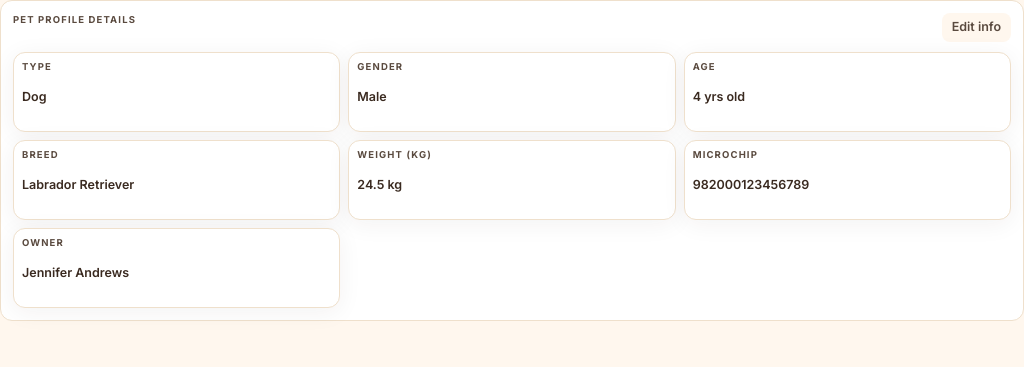
Test: PetProfileDetailsPanel › shows a validation error and does not save when age is not positive
This screenshot has width=1024, height=367.
Click the button "Edit info".
click(976, 27)  # box left=942, top=13, right=1011, bottom=42
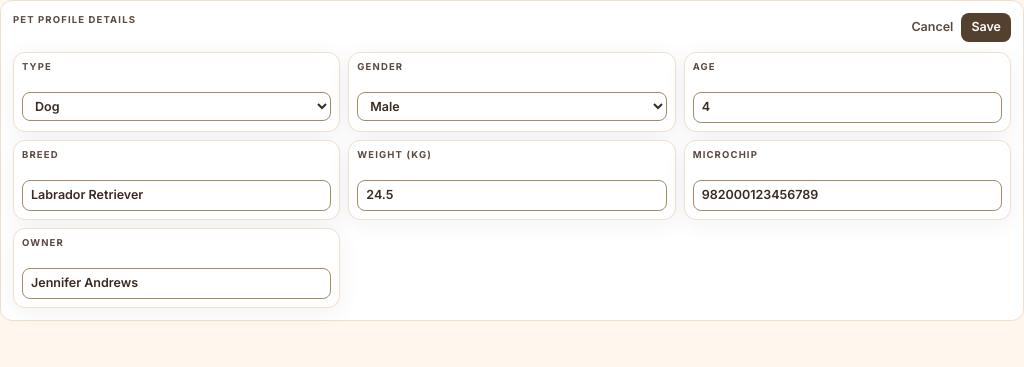
Replace the text in the number field named "Age" with "0" at (847, 108), box left=693, top=92, right=1002, bottom=123
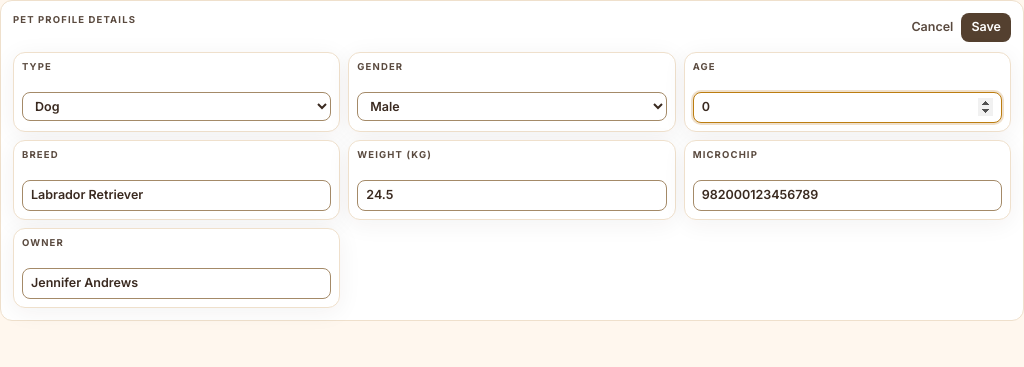
Click the button "Save".
click(986, 27)  # box left=961, top=13, right=1011, bottom=42
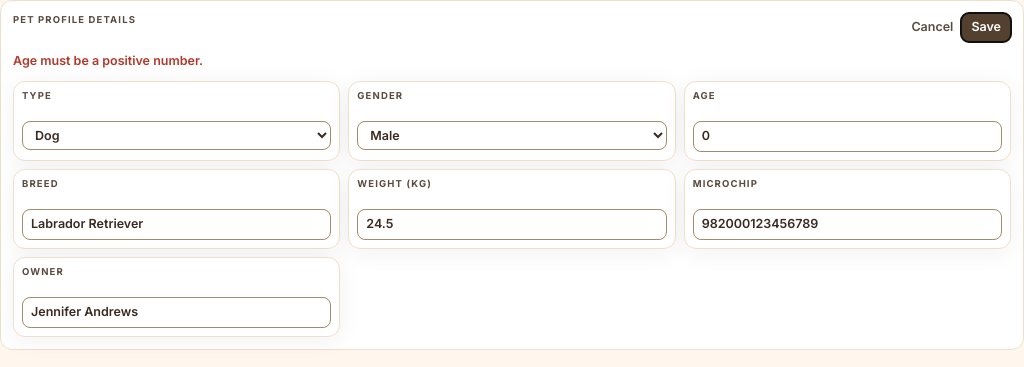
Result: the message reads "Age must be a positive number." at left=13, top=53, right=203, bottom=68
